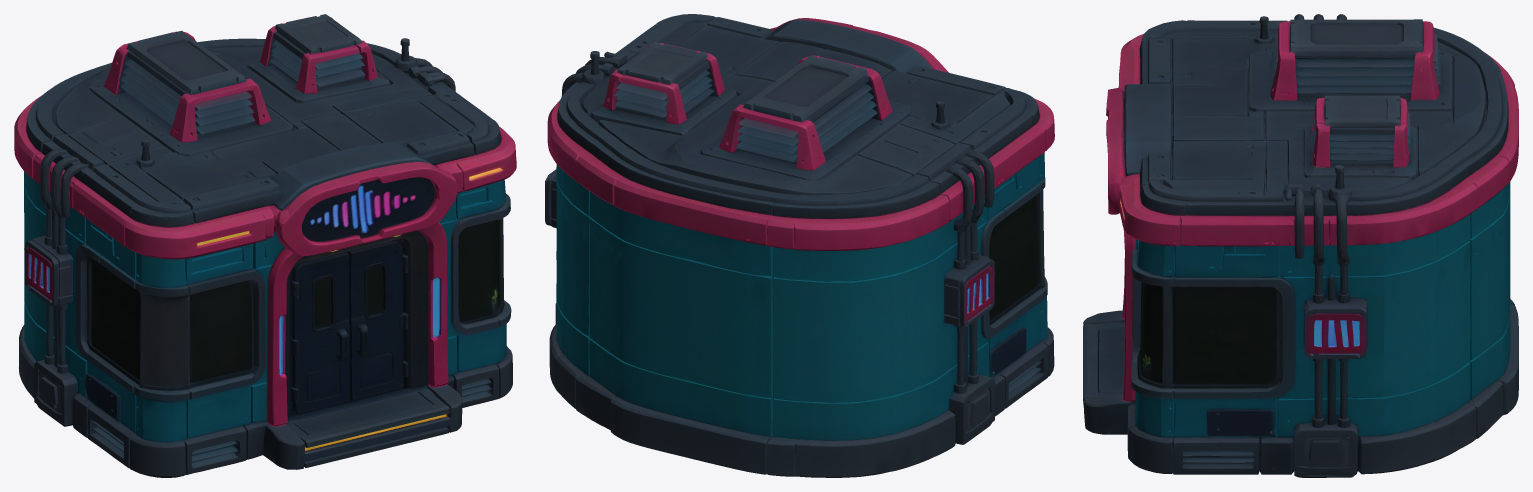
The picture shows the model from 3 angles, left to right: view 1: azimuth 30°, elevation 25°; view 2: azimuth 150°, elevation 25°; view 3: azimuth 270°, elevation 25°; orthographic projection. The views are drawn at different scales.
Parts seen in each view (by area): view 1: model; view 2: model; view 3: model.
Part boxes in pixels (box(x1,y1,x2,y2)): model: box(14, 14, 516, 477); model: box(545, 14, 1054, 477); model: box(1083, 14, 1518, 477).
Bounding box in the file's own units: 1.9 × 1.41 × 1.7.
Materials: 1 (1 with a texture image).
